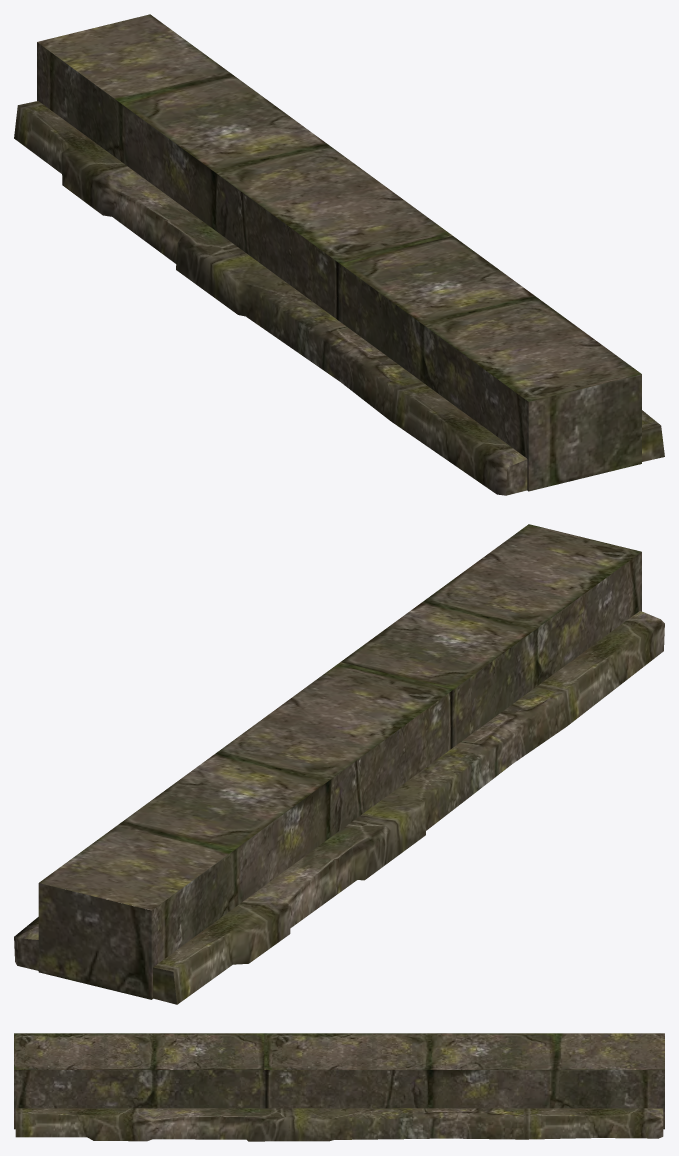
Rendered from Broken_Wall_Bottom_01-transformed.glb.
3 views of the same model, one above another, from view 1: azimuth 30°, elevation 25°; view 2: azimuth 150°, elevation 25°; view 3: azimuth 270°, elevation 25° (orthographic). The views are drawn at different scales.
Parts seen in each view (by area): view 1: default; view 2: default; view 3: default.
Boxes of the visible parts, left/top/right/bottom form: default: left=14, top=14, right=664, bottom=495; default: left=14, top=524, right=664, bottom=1004; default: left=14, top=1033, right=664, bottom=1141.
Bounding box in the file's own units: 1.33 × 0.6032 × 6.
Materials: 1 (1 with a texture image).
